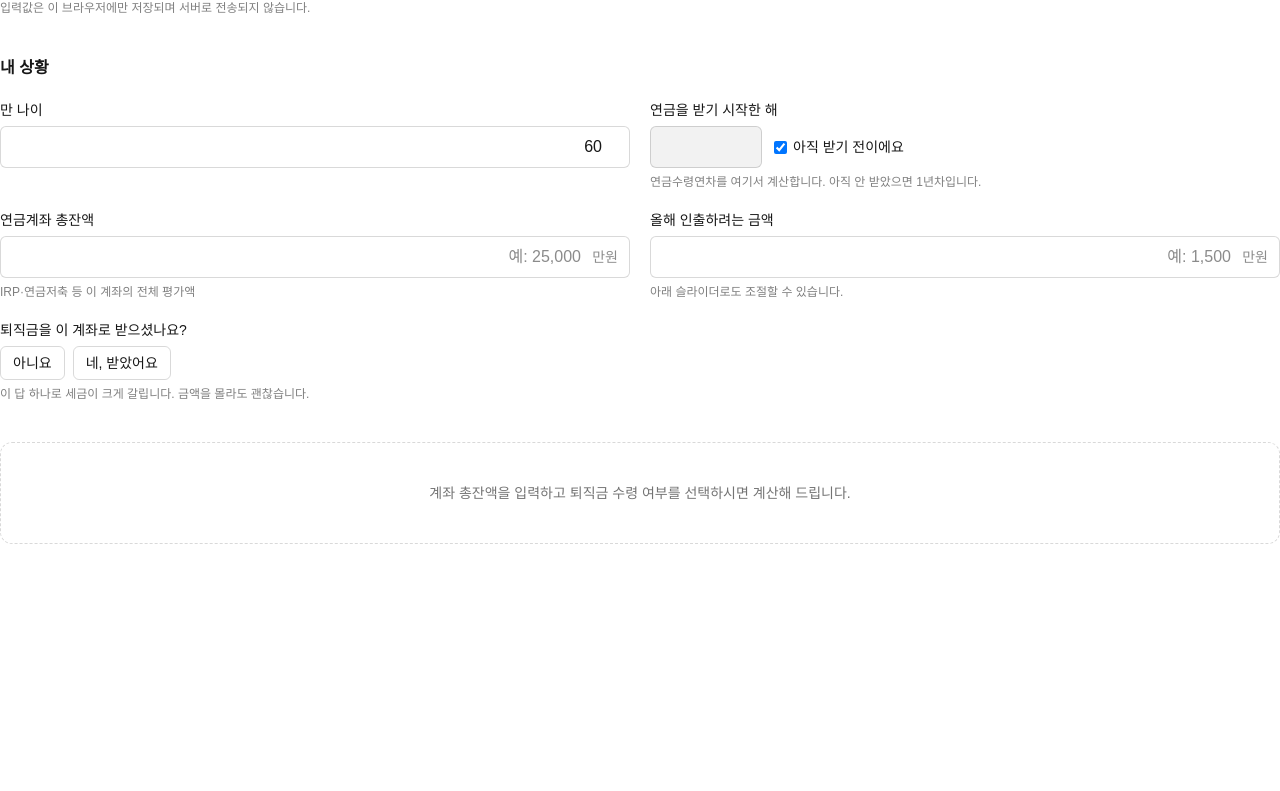
슬라이더로 1,500만 원을 넘기면 경고가 나타난다 › 넘기기 전에는 경고가 없고, 넘기면 나타난다
Type "25000" into the field labelled "연금계좌 총잔액" at [315, 257], box [0,236,630,278]
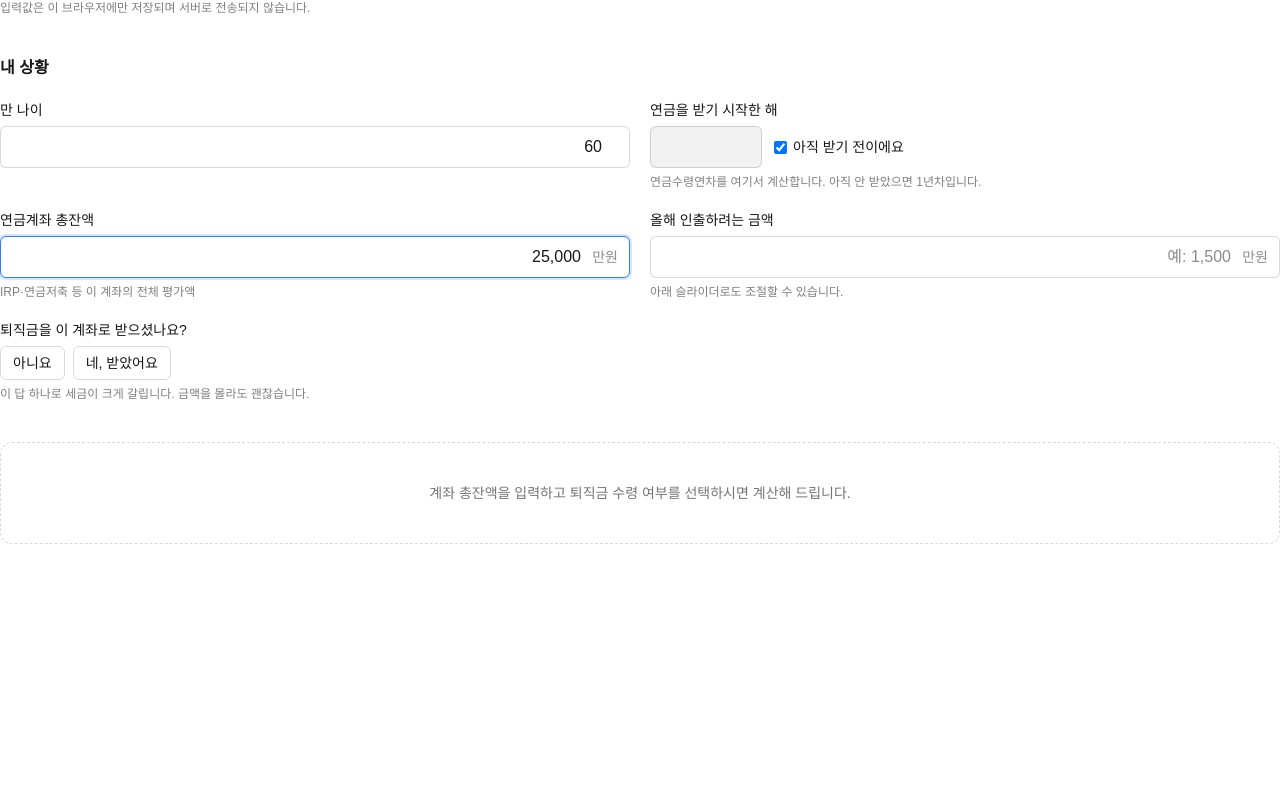
Type "1000" into the field labelled "올해 인출하려는 금액" at [965, 257], box [650,236,1279,278]
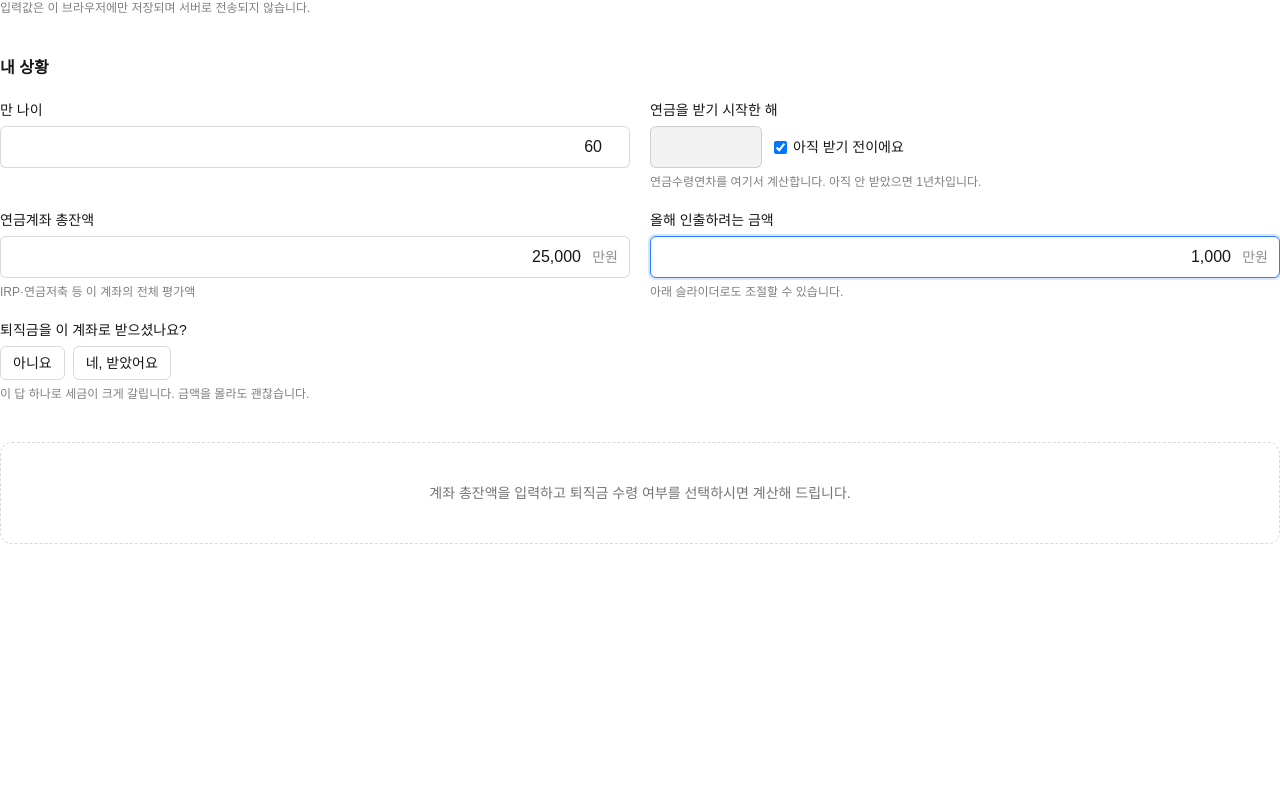
Click the radio button labelled "아니요" at [32, 363], box [0,346,65,380]
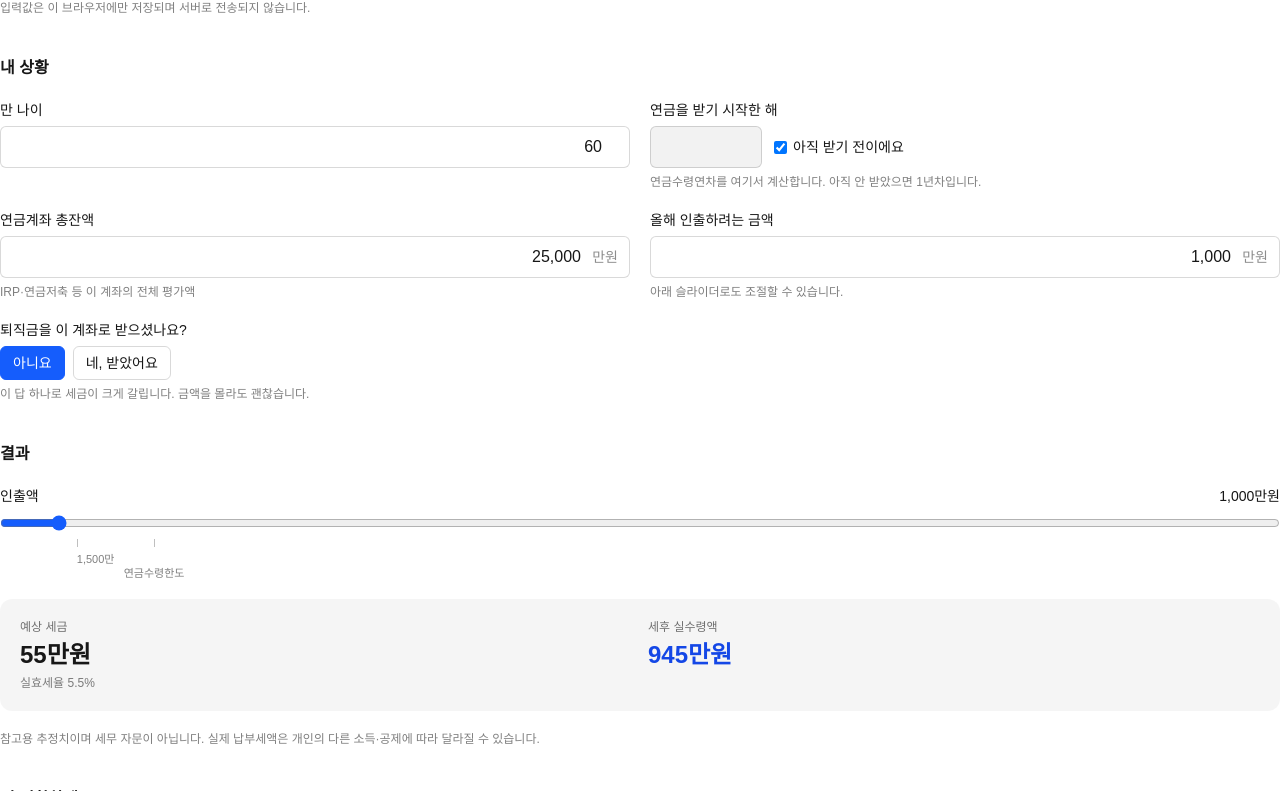
Expected: the text "1,500만 원을 초과" is not shown
Set the slider labelled "인출액" to "40000000" at [210, 523], box [0,515,1279,531]
(page scrolled)
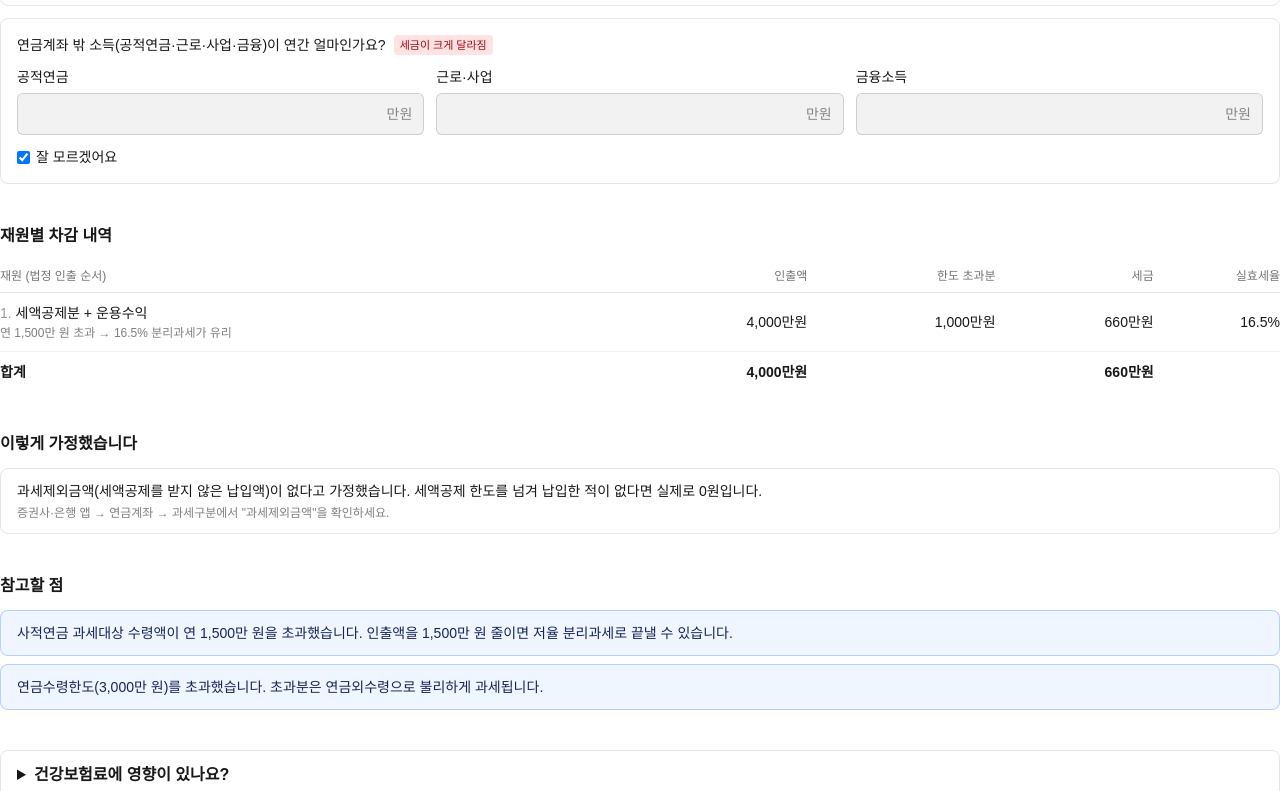
Expected: the list item "1,500만 원을 초과" is shown, [17,625,733,641]
